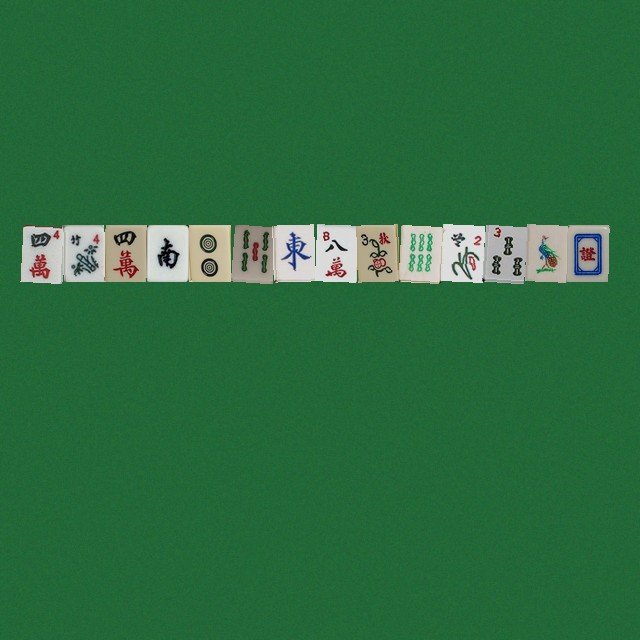tile: (20, 224, 62, 281), (62, 224, 104, 281), (104, 224, 146, 281), (146, 224, 188, 281), (188, 224, 230, 281), (230, 224, 272, 281), (272, 224, 314, 281), (314, 224, 356, 281), (356, 224, 398, 281), (398, 224, 440, 281), (440, 224, 482, 281), (482, 224, 524, 281), (524, 224, 566, 281), (566, 224, 608, 281)
